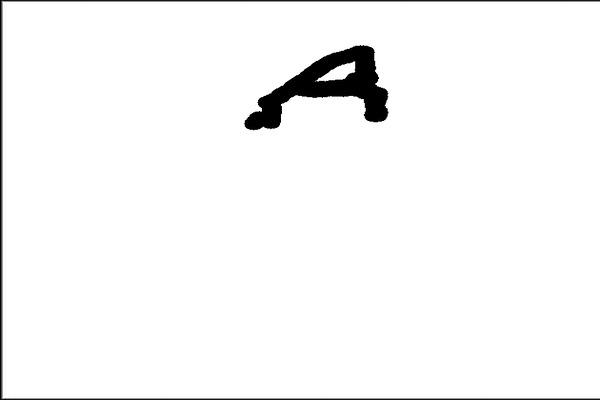A: (228, 35, 394, 141)
